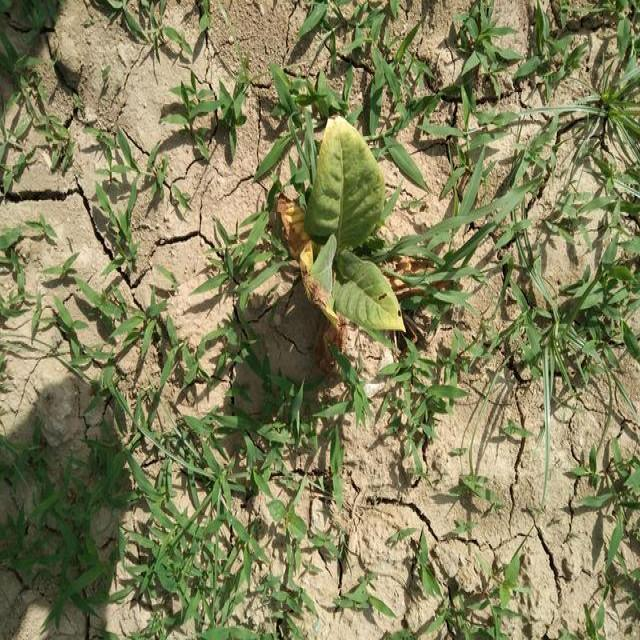crop: (302, 92, 415, 348)
